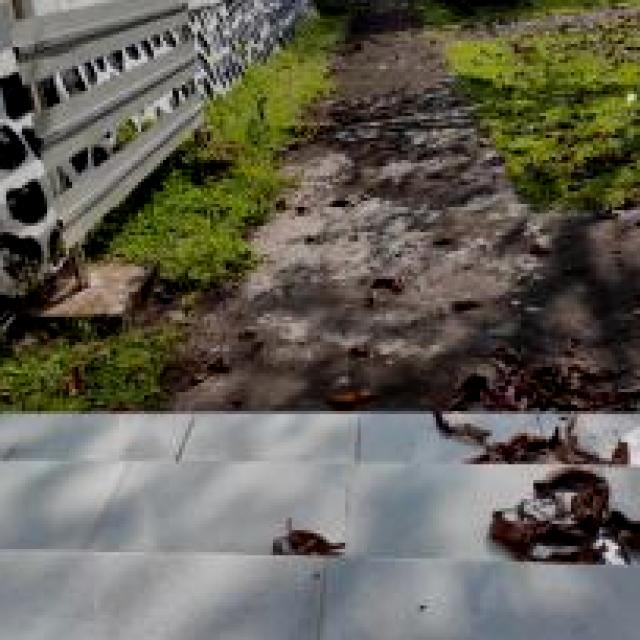downstair: (1, 415, 638, 640)
